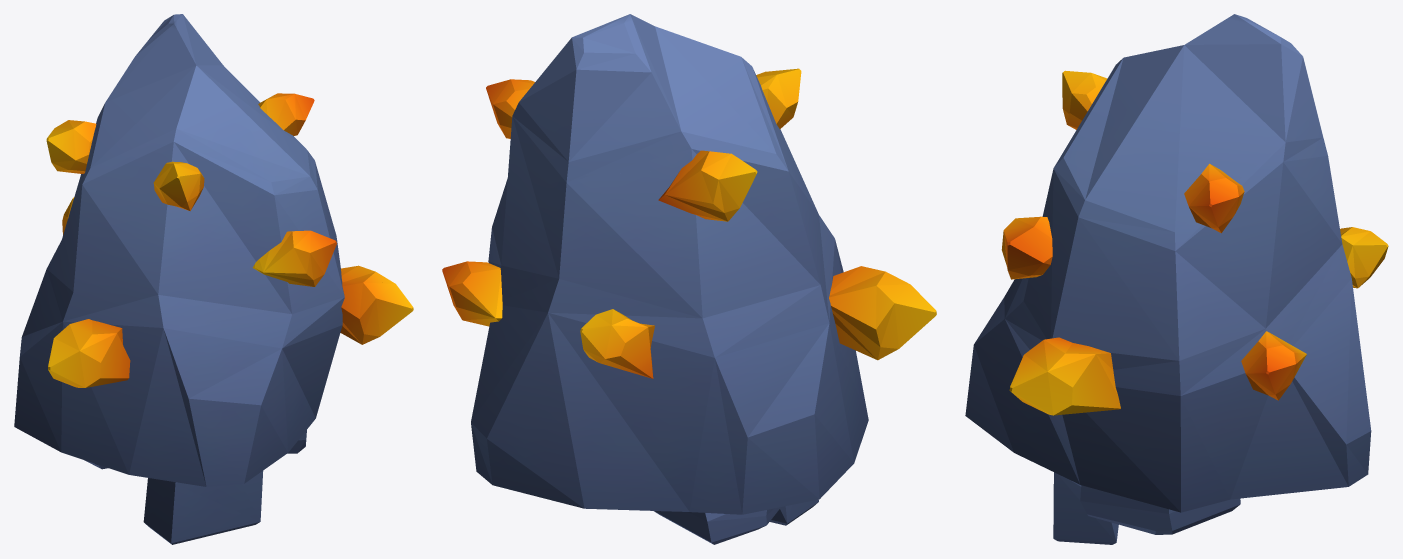
File: LOC_Ore.fbx
3 renders of one model, left to right at view 1: azimuth 30°, elevation 25°; view 2: azimuth 150°, elevation 25°; view 3: azimuth 270°, elevation 25°, orthographic. The views are drawn at different scales.
Parts seen in each view (by area): view 1: Ore_v_2, Ore_v_1, Ore_v_3, Ore_v_4, Ore_Base; view 2: Ore_v_3, Ore_v_2, Ore_v_1, Ore_v_4, Ore_Base; view 3: Ore_v_3, Ore_v_2, Ore_v_1, Ore_v_4, Ore_Base.
Part boxes in pixels (x1=…): Ore_v_2: x1=48, y1=151, x2=413, y2=409; Ore_v_1: x1=14, y1=291, x2=334, y2=486; Ore_v_3: x1=38, y1=41, x2=325, y2=326; Ore_v_4: x1=46, y1=14, x2=218, y2=245; Ore_Base: x1=84, y1=430, x2=306, y2=544; Ore_v_3: x1=486, y1=79, x2=828, y2=389; Ore_v_2: x1=442, y1=174, x2=936, y2=482; Ore_v_1: x1=471, y1=262, x2=868, y2=514; Ore_v_4: x1=529, y1=14, x2=805, y2=208; Ore_Base: x1=654, y1=499, x2=818, y2=544; Ore_v_3: x1=1006, y1=66, x2=1354, y2=353; Ore_v_2: x1=993, y1=227, x2=1388, y2=452; Ore_v_1: x1=965, y1=292, x2=1371, y2=512; Ore_v_4: x1=1062, y1=14, x2=1316, y2=129; Ore_Base: x1=1053, y1=472, x2=1240, y2=544.
Bounding box in the file's own units: 144 × 184 × 134.
